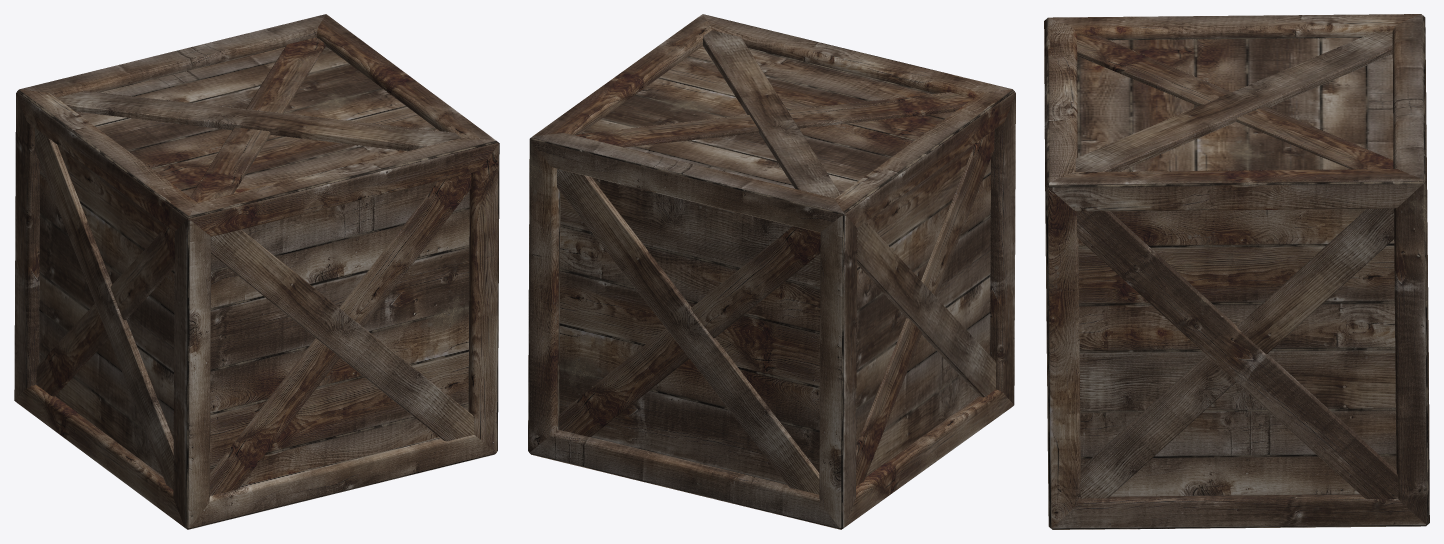
File: SM_WoodenBox_01a.fbx
The picture shows the model from 3 angles, left to right: view 1: azimuth 30°, elevation 25°; view 2: azimuth 150°, elevation 25°; view 3: azimuth 270°, elevation 25°; orthographic projection. The views are drawn at different scales.
Visible parts, largest first — view 1: SM_WoodenBox_01a; view 2: SM_WoodenBox_01a; view 3: SM_WoodenBox_01a.
Part boxes in pixels (bbox=[...]): SM_WoodenBox_01a: bbox=[14, 14, 499, 529]; SM_WoodenBox_01a: bbox=[528, 14, 1015, 529]; SM_WoodenBox_01a: bbox=[1044, 14, 1429, 529].
Bounding box in the file's own units: 80.53 × 77.66 × 77.79.
1 material, 1 textured.
